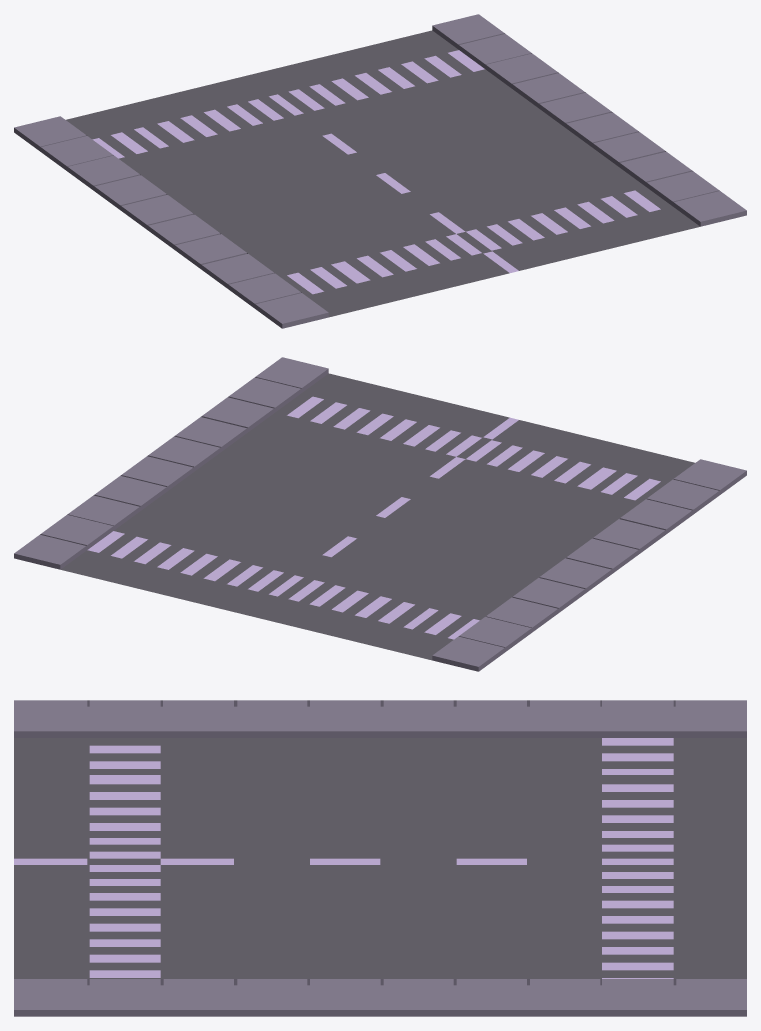
File: Road_Crosswalk.fbx
3 renders of one model, top to bottom at view 1: azimuth 30°, elevation 25°; view 2: azimuth 150°, elevation 25°; view 3: azimuth 270°, elevation 25°, orthographic. The views are drawn at different scales.
Parts seen in each view (by area): view 1: Road_Crosswalk; view 2: Road_Crosswalk; view 3: Road_Crosswalk.
Boxes of the visible parts, x1,y1,x2,y2 form: Road_Crosswalk: (14,14,746,328); Road_Crosswalk: (14,357,746,671); Road_Crosswalk: (14,700,746,1016).
Bounding box in the file's own units: 9.35 × 0.0945 × 9.35.
